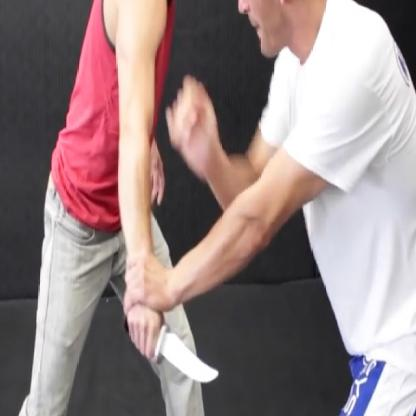knife: (122, 311, 223, 393)
